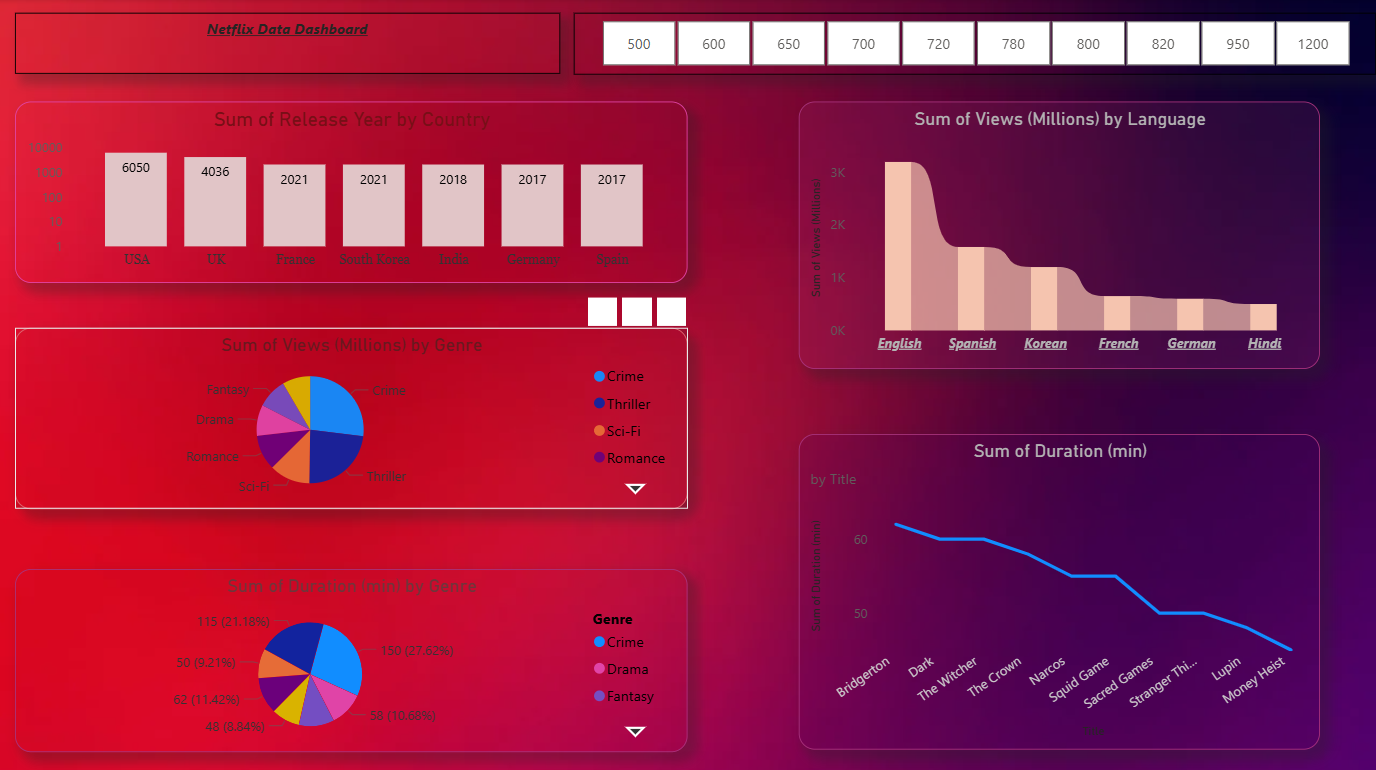

This screenshot's page, from the dashboard's own definition file:
{"tool":"powerbi","page":{"name":"Page 1","canvas":[1280,720],"ordinal":0},"visuals":[{"type":"columnChart","fields":{"Category":["Netflix Data.Country"],"Y":["Sum(Netflix Data.Release Year)"]},"box":[14.3,95.7,625.7,168.6],"z":0},{"type":"donutChart","fields":{"Category":["Netflix Data.Genre"],"Y":["Sum(Netflix Data.Views (Millions))"]},"box":[14.3,305.7,625.7,168.6],"z":1000},{"type":"pieChart","fields":{"Series":["Netflix Data.Genre"],"Y":["Sum(Netflix Data.Duration (min))"]},"box":[14.3,530,625.7,170],"z":2000},{"type":"textbox","box":[14.3,12.9,507.1,57.1],"z":3000},{"type":"ribbonChart","fields":{"Category":["Netflix Data.Language"],"Y":["Sum(Netflix Data.Views (Millions))"]},"box":[742.5,95,485,248.8],"z":4000},{"type":"lineChart","fields":{"Category":["Netflix Data.Title"],"Y":["Sum(Netflix Data.Duration (min))"]},"box":[742.5,405,485,293.8],"z":5000},{"type":"slicer","fields":{"Values":["Netflix Data.Views (Millions)"]},"box":[533.6,12.7,746.4,57.3],"z":6000}]}

Visuals, with their boxes in screenshot pixels (x1, y1, x2, y2), scaled from the page's 1280x720 canvas onto the 1376x770 screenshot:
columnChart - Netflix Data.Country x Sum(Netflix Data.Release Year): BBox(15, 102, 688, 283)
donutChart - Netflix Data.Genre x Sum(Netflix Data.Views (Millions)): BBox(15, 327, 688, 507)
pieChart - Netflix Data.Genre x Sum(Netflix Data.Duration (min)): BBox(15, 567, 688, 749)
textbox: BBox(15, 14, 561, 75)
ribbonChart - Netflix Data.Language x Sum(Netflix Data.Views (Millions)): BBox(798, 102, 1320, 368)
lineChart - Netflix Data.Title x Sum(Netflix Data.Duration (min)): BBox(798, 433, 1320, 747)
slicer - Netflix Data.Views (Millions): BBox(574, 14, 1375, 75)
